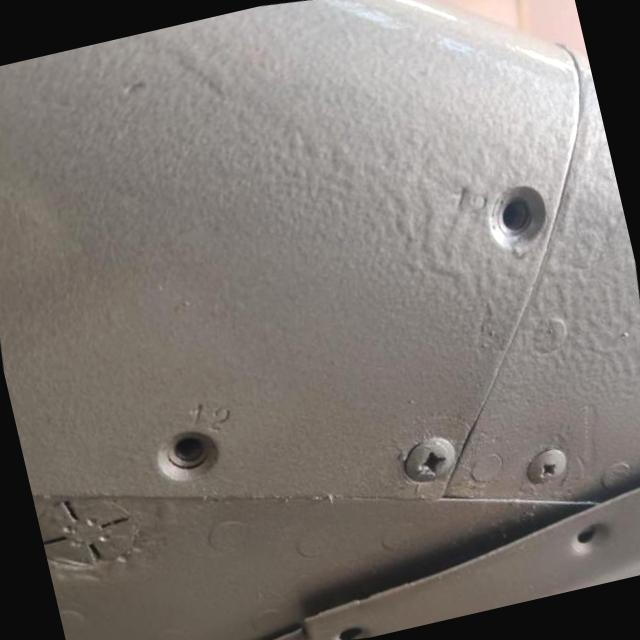Missing Fastener: (484, 178, 554, 248), (152, 424, 224, 486), (557, 514, 614, 560), (332, 612, 370, 640)
